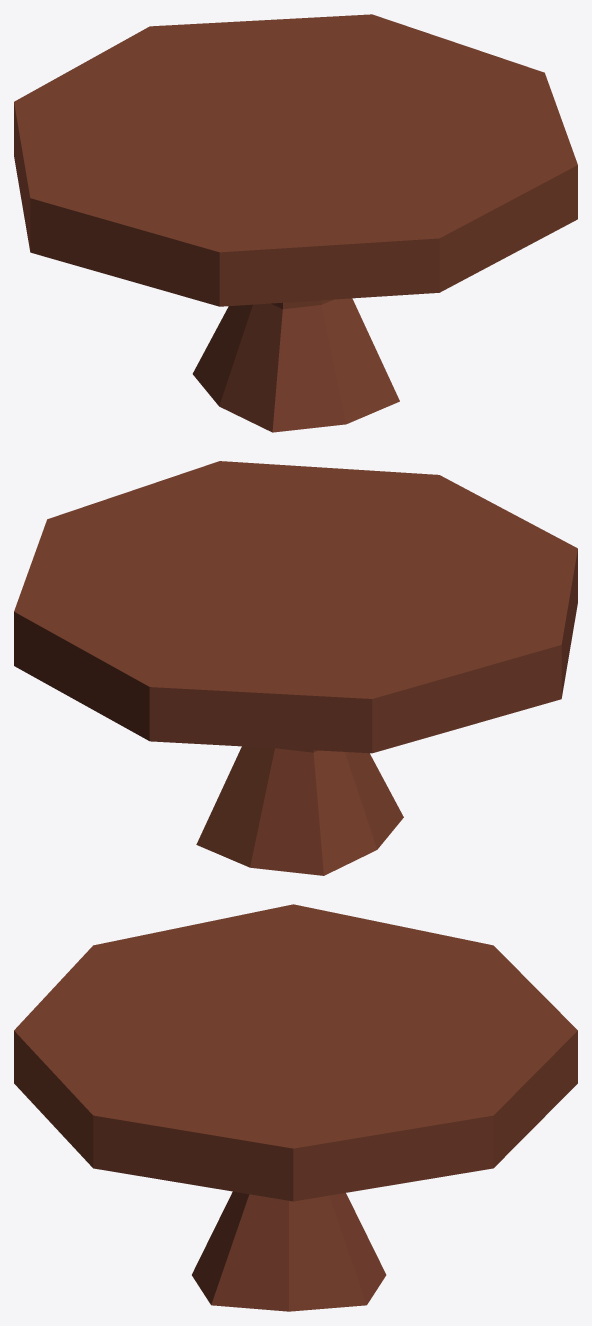
Rendered from WallyTable.fbx.
The picture shows the model from 3 angles, top to bottom: view 1: azimuth 30°, elevation 25°; view 2: azimuth 150°, elevation 25°; view 3: azimuth 270°, elevation 25°; orthographic projection. The views are drawn at different scales.
Parts seen in each view (by area): view 1: Cube.008; view 2: Cube.008; view 3: Cube.008.
Part boxes in pixels (box(x1,y1,x2,y2)): Cube.008: box(14, 14, 577, 432); Cube.008: box(14, 461, 577, 875); Cube.008: box(14, 904, 577, 1311).
Bounding box in the file's own units: 325 × 152 × 317.
